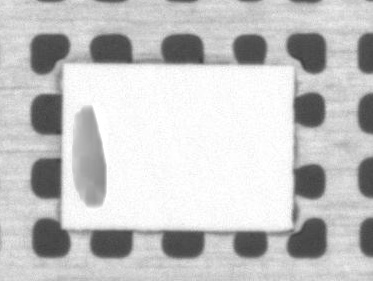DIE_INK: (71, 102, 107, 207)
